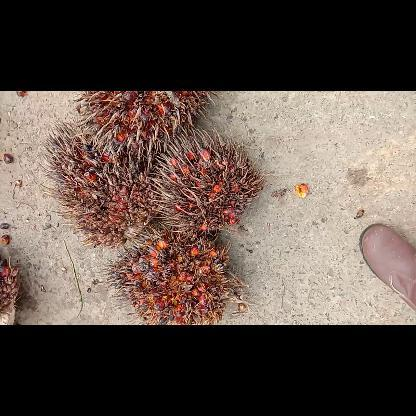Terlalu masak: (37, 113, 169, 252), (98, 224, 250, 324), (147, 124, 269, 244), (73, 91, 222, 164)
